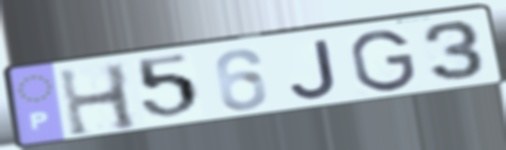3: (419, 19, 489, 83)
5: (132, 51, 204, 125)
6: (212, 47, 270, 113)
G: (347, 28, 419, 95)
H: (55, 60, 142, 140)
J: (287, 37, 341, 101)
